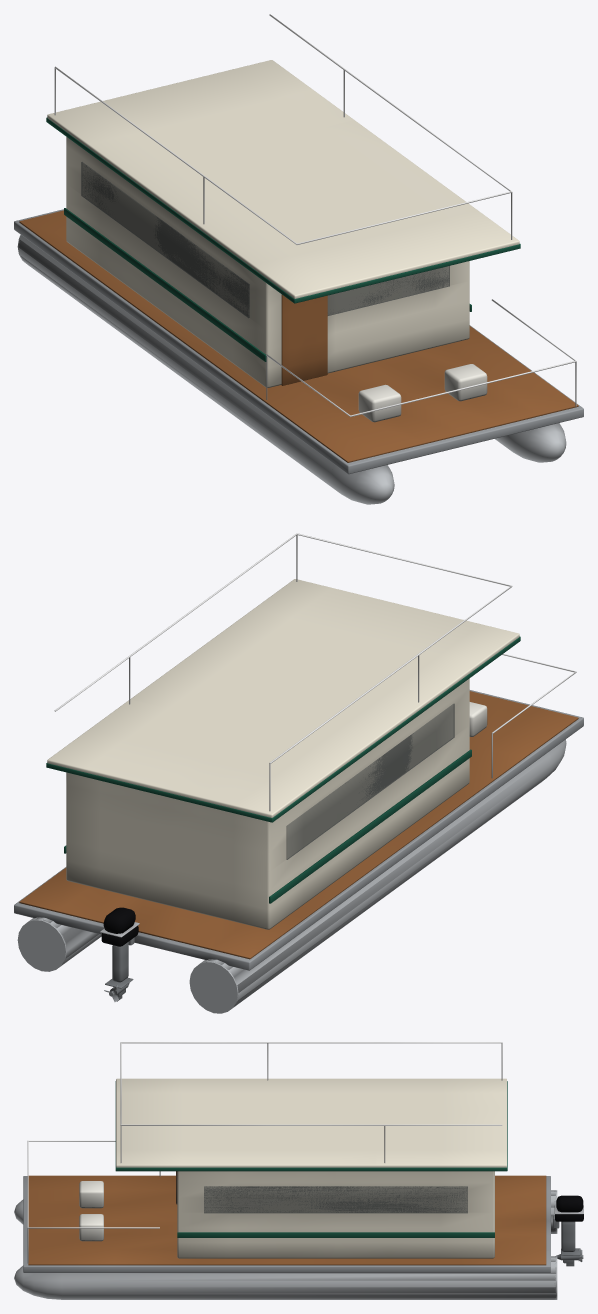
File: boat-houseboat.glb
3 renders of one model, top to bottom at view 1: azimuth 30°, elevation 25°; view 2: azimuth 150°, elevation 25°; view 3: azimuth 270°, elevation 25°, orthographic. The views are drawn at different scales.
Visible parts, largest first — view 1: body; view 2: body; view 3: body.
Boxes of the visible parts, left/top/right/bottom form: body: left=14, top=14, right=583, bottom=504; body: left=14, top=533, right=583, bottom=1013; body: left=14, top=1042, right=583, bottom=1299.
Size of the model in its own units: 4.4 by 4.12 by 11.66.
